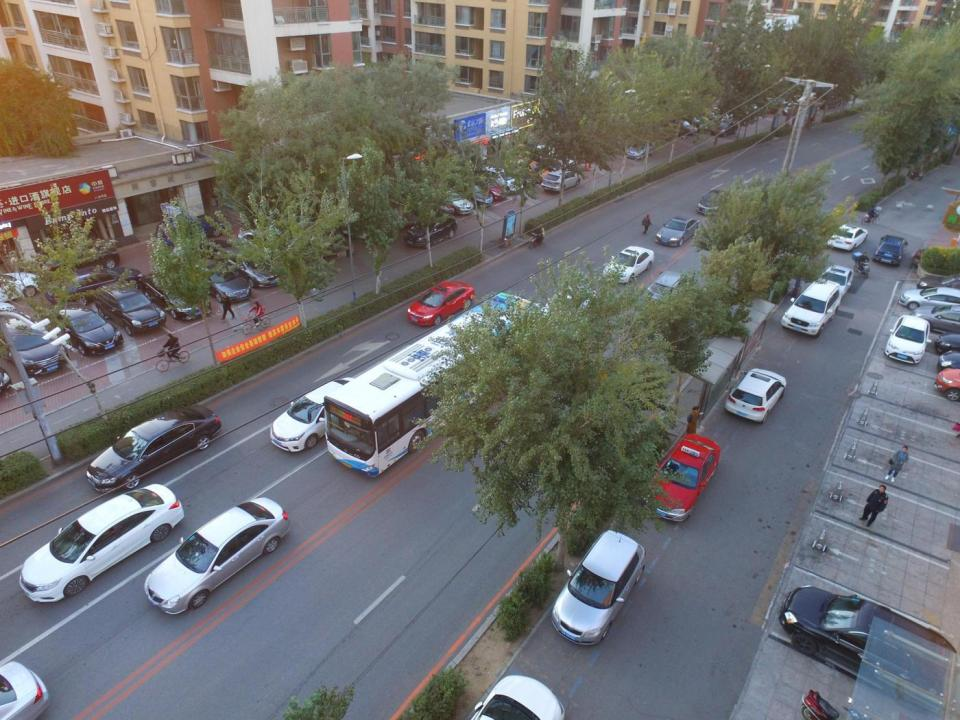bus: (322, 292, 550, 477)
car: (777, 584, 960, 704), (19, 482, 187, 602), (142, 495, 290, 616), (84, 400, 223, 492), (548, 529, 648, 644), (268, 374, 364, 454), (642, 432, 725, 522), (0, 309, 75, 373), (43, 301, 126, 356), (92, 278, 167, 336), (722, 367, 788, 424), (42, 266, 146, 302), (780, 278, 842, 337), (140, 270, 213, 320), (236, 224, 313, 266), (211, 244, 286, 287), (407, 280, 476, 326), (191, 258, 252, 302), (885, 310, 930, 366), (638, 270, 694, 315), (538, 285, 598, 327), (154, 216, 228, 248), (42, 244, 122, 272), (601, 246, 655, 285), (166, 239, 240, 265), (402, 215, 458, 246), (909, 301, 960, 335), (899, 287, 960, 314), (440, 176, 494, 206), (817, 263, 854, 305), (655, 213, 700, 246), (479, 164, 524, 196), (914, 271, 960, 301), (406, 193, 455, 221), (870, 234, 909, 268), (461, 172, 508, 200), (506, 155, 551, 183), (826, 223, 870, 251), (531, 144, 578, 169), (430, 189, 474, 215), (496, 163, 539, 189), (540, 167, 582, 192), (696, 188, 732, 216), (662, 116, 698, 134), (625, 139, 657, 159), (708, 120, 738, 136), (782, 101, 809, 118)
